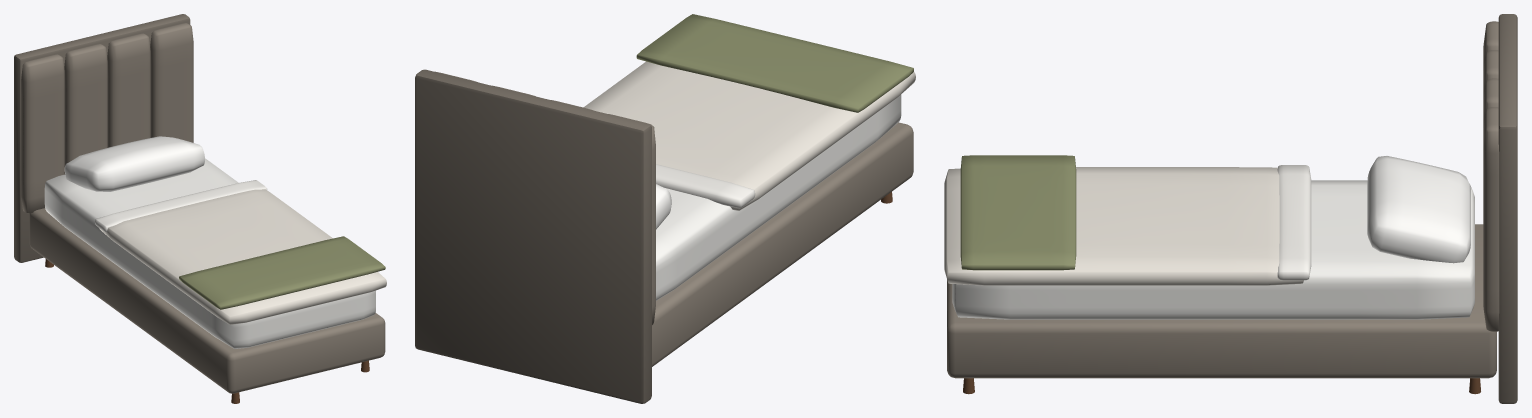
The model's file is bed_1.glb.
The picture shows the model from 3 angles, left to right: view 1: azimuth 30°, elevation 25°; view 2: azimuth 150°, elevation 25°; view 3: azimuth 270°, elevation 25°; orthographic projection. The views are drawn at different scales.
Visible parts, largest first — view 1: box, soft.001, soft, soft.003, soft.005, soft.004, soft.008, soft.006, soft.007, box.001, soft.002; view 2: box.001, soft.001, box, soft.003, soft, soft.002, soft.005, soft.004; view 3: box, soft.001, soft, soft.003, soft.004, box.001, soft.002, soft.008.
Part boxes in pixels (x1,y1,x2,y2): box: (29,208,385,393); soft.001: (99,189,386,324); soft: (44,158,375,348); soft.003: (179,236,385,309); soft.005: (21,54,64,213); soft.004: (64,136,204,191); soft.008: (150,23,193,142); soft.006: (64,44,107,174); soft.007: (107,33,150,147); box.001: (14,14,190,262); soft.002: (95,180,267,232); box.001: (415,69,651,403); soft.001: (583,61,915,210); box: (652,122,913,366); soft.003: (636,14,913,112); soft: (656,94,901,300); soft.002: (656,164,755,207); soft.005: (608,114,655,324); soft.004: (656,184,671,229); box: (947,224,1496,378); soft.001: (944,167,1303,285); soft: (952,180,1474,319); soft.003: (960,155,1076,270); soft.004: (1367,156,1470,263); box.001: (1498,14,1517,403); soft.002: (1277,165,1311,280); soft.008: (1483,107,1499,331).
Size of the model in its own units: 98 by 112 by 208.
